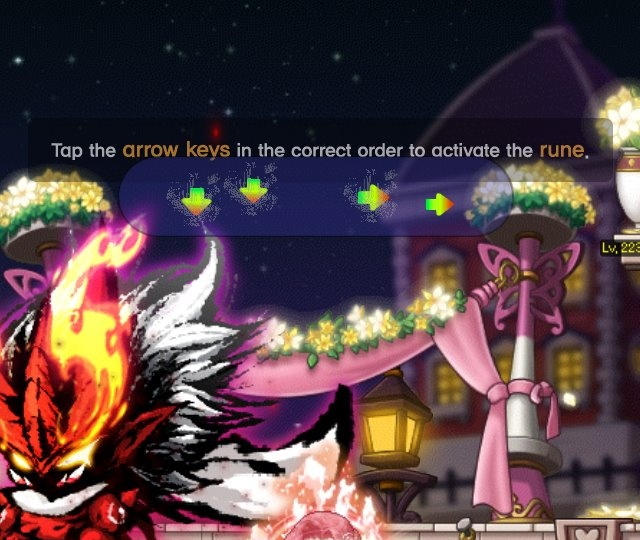rune_box: (108, 145, 526, 246)
